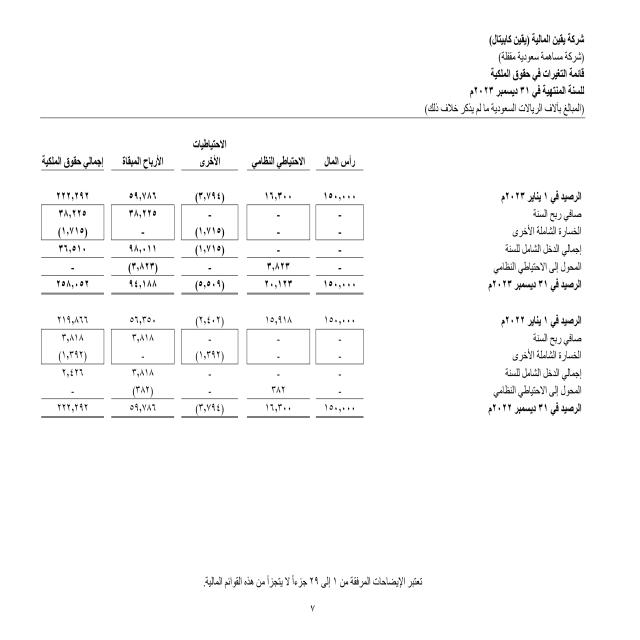financial_sheets: (487, 66, 585, 81)
table: (6, 115, 364, 457)
